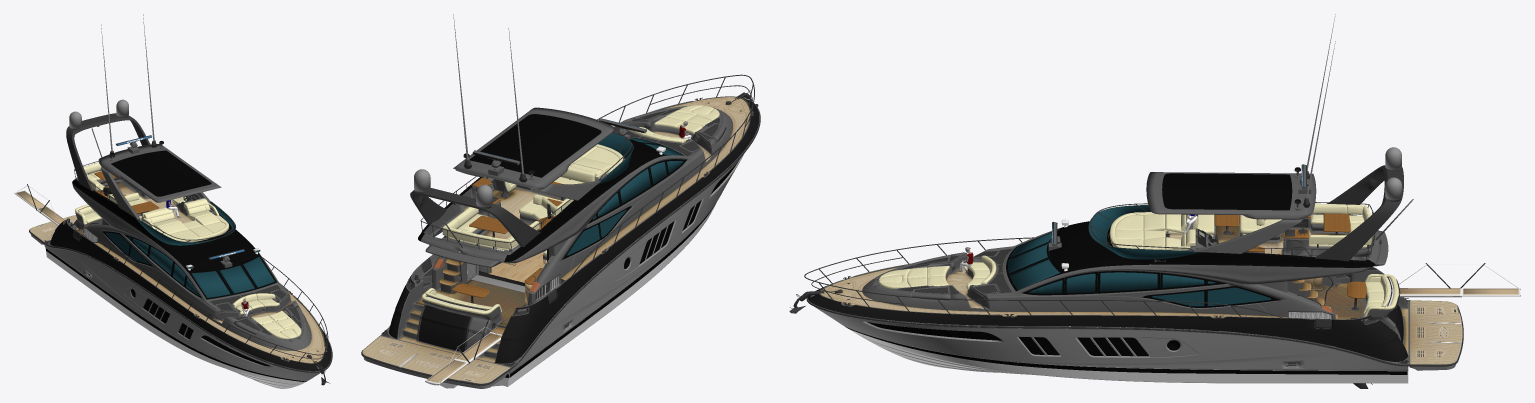
File: yate_full.glb
The picture shows the model from 3 angles, left to right: view 1: azimuth 30°, elevation 25°; view 2: azimuth 150°, elevation 25°; view 3: azimuth 270°, elevation 25°; orthographic projection. The views are drawn at different scales.
Visible parts, largest first — view 1: G-seamaterial_0_16, G-seamaterial_24_47, G-seamaterial_21_44, G-seamaterial_6_22, G-seamaterial_22_45, G-seamaterial_3_18, G-seamaterial_9_32, G-seamaterial_45_25, G-seamaterial_43_23, G-seamaterial_46_20, G-seamaterial_27_49, G-seamaterial_28_50 (+3 smaller); view 2: G-seamaterial_0_16, G-seamaterial_9_32, G-seamaterial_24_47, G-seamaterial_21_44, G-seamaterial_22_45, G-seamaterial_45_25, G-seamaterial_43_23, G-seamaterial_6_22, G-seamaterial_3_18, G-seamaterial_46_20, G-seamaterial_20_43, G-seamaterial_15_38 (+8 smaller); view 3: G-seamaterial_0_16, G-seamaterial_24_47, G-seamaterial_9_32, G-seamaterial_21_44, G-seamaterial_22_45, G-seamaterial_6_22, G-seamaterial_3_18, G-seamaterial_45_25, G-seamaterial_43_23, G-seamaterial_46_20, G-seamaterial_28_50, G-seamaterial_20_43 (+3 smaller).
Part boxes in pixels (x1,y1,x2,y2): G-seamaterial_0_16: [29, 170, 331, 388]; G-seamaterial_24_47: [31, 234, 320, 381]; G-seamaterial_21_44: [75, 162, 301, 339]; G-seamaterial_6_22: [105, 202, 276, 299]; G-seamaterial_22_45: [29, 161, 332, 385]; G-seamaterial_3_18: [72, 179, 259, 271]; G-seamaterial_9_32: [30, 182, 325, 363]; G-seamaterial_45_25: [111, 150, 211, 196]; G-seamaterial_43_23: [98, 144, 221, 219]; G-seamaterial_46_20: [66, 113, 150, 190]; G-seamaterial_27_49: [210, 285, 301, 335]; G-seamaterial_28_50: [131, 288, 269, 365]; G-seamaterial_0_16: [362, 96, 759, 388]; G-seamaterial_9_32: [362, 97, 750, 383]; G-seamaterial_24_47: [363, 154, 743, 388]; G-seamaterial_21_44: [421, 105, 719, 314]; G-seamaterial_22_45: [361, 74, 760, 385]; G-seamaterial_45_25: [469, 114, 601, 177]; G-seamaterial_43_23: [453, 107, 614, 200]; G-seamaterial_6_22: [567, 133, 683, 255]; G-seamaterial_3_18: [418, 139, 664, 261]; G-seamaterial_46_20: [410, 188, 540, 247]; G-seamaterial_20_43: [451, 177, 563, 298]; G-seamaterial_15_38: [489, 251, 546, 282]; G-seamaterial_0_16: [807, 213, 1462, 383]; G-seamaterial_24_47: [815, 307, 1455, 370]; G-seamaterial_9_32: [820, 226, 1462, 364]; G-seamaterial_21_44: [878, 203, 1398, 316]; G-seamaterial_22_45: [789, 202, 1463, 366]; G-seamaterial_6_22: [1008, 205, 1270, 306]; G-seamaterial_3_18: [1049, 214, 1375, 273]; G-seamaterial_45_25: [1162, 173, 1292, 210]; G-seamaterial_43_23: [1146, 172, 1316, 253]; G-seamaterial_46_20: [1315, 165, 1403, 261]; G-seamaterial_28_50: [867, 322, 1180, 356]; G-seamaterial_20_43: [1214, 213, 1366, 298].
Size of the model in its own units: 5.39 by 13.43 by 25.31.
Materials: 33 (13 with a texture image).
